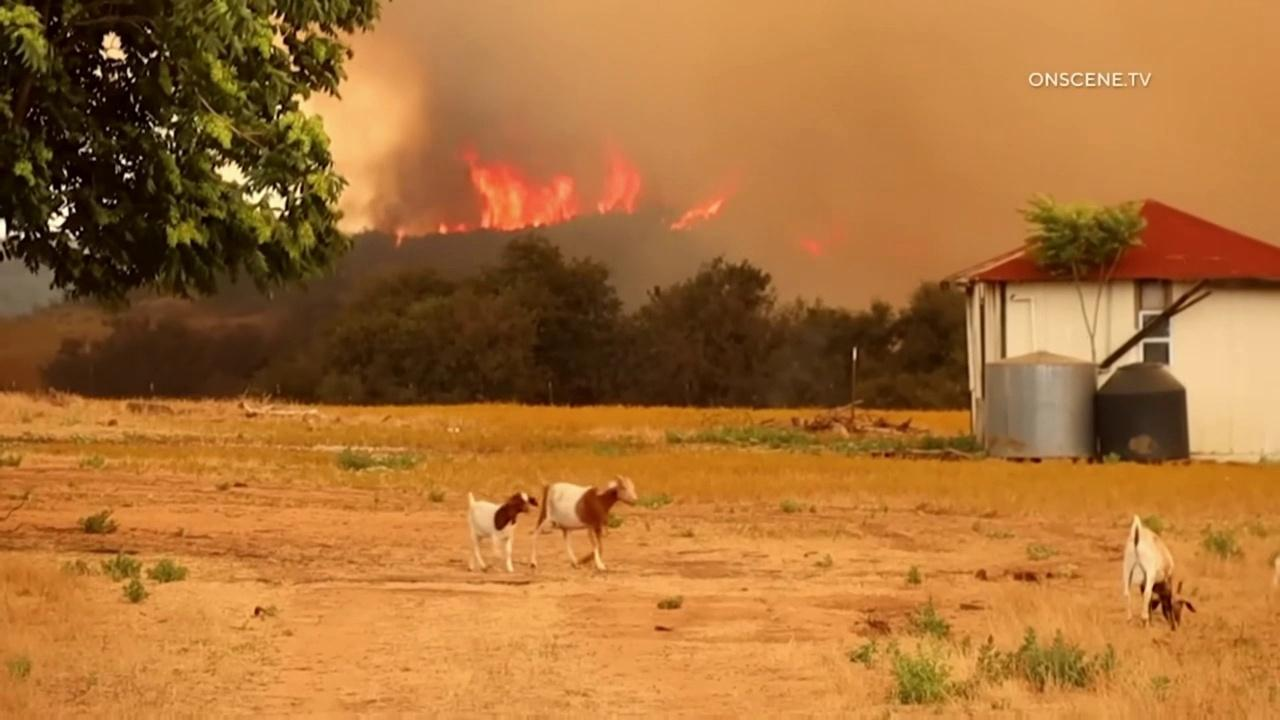fire: (437, 148, 579, 236), (597, 141, 643, 217), (671, 196, 724, 231), (800, 238, 824, 258), (394, 226, 405, 248)
smoke: (313, 0, 1280, 318)
